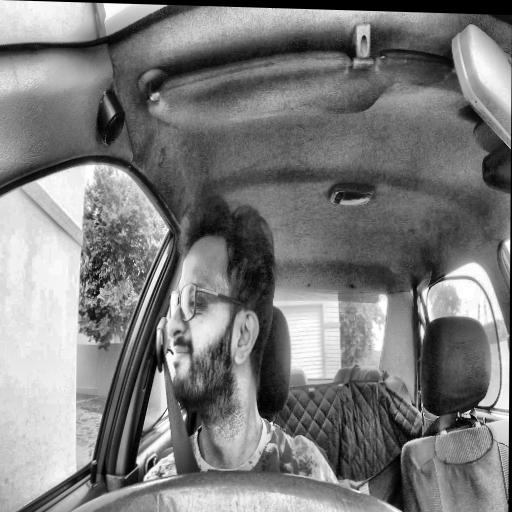awake: (166, 194, 276, 427)
